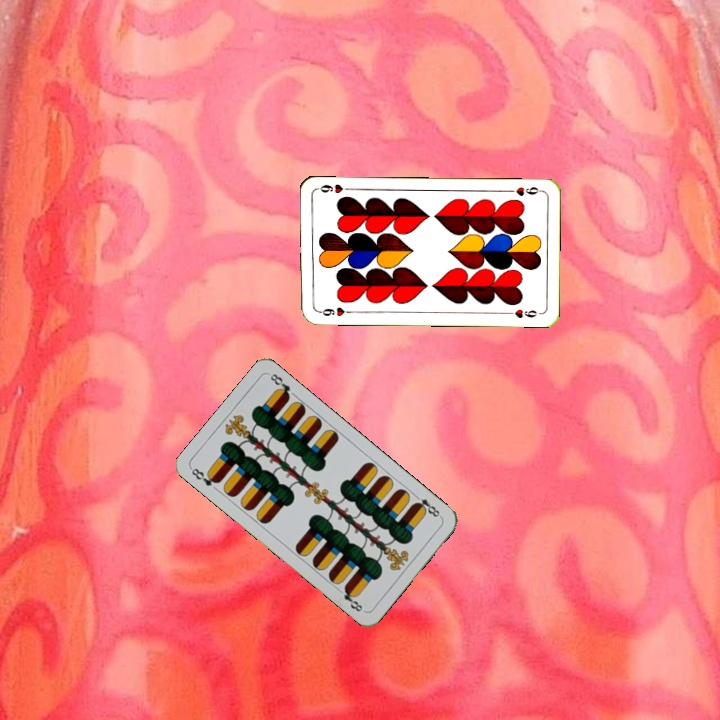E8: (410, 490, 444, 521), (186, 464, 222, 489)
H9: (504, 182, 544, 198), (314, 303, 354, 319)
